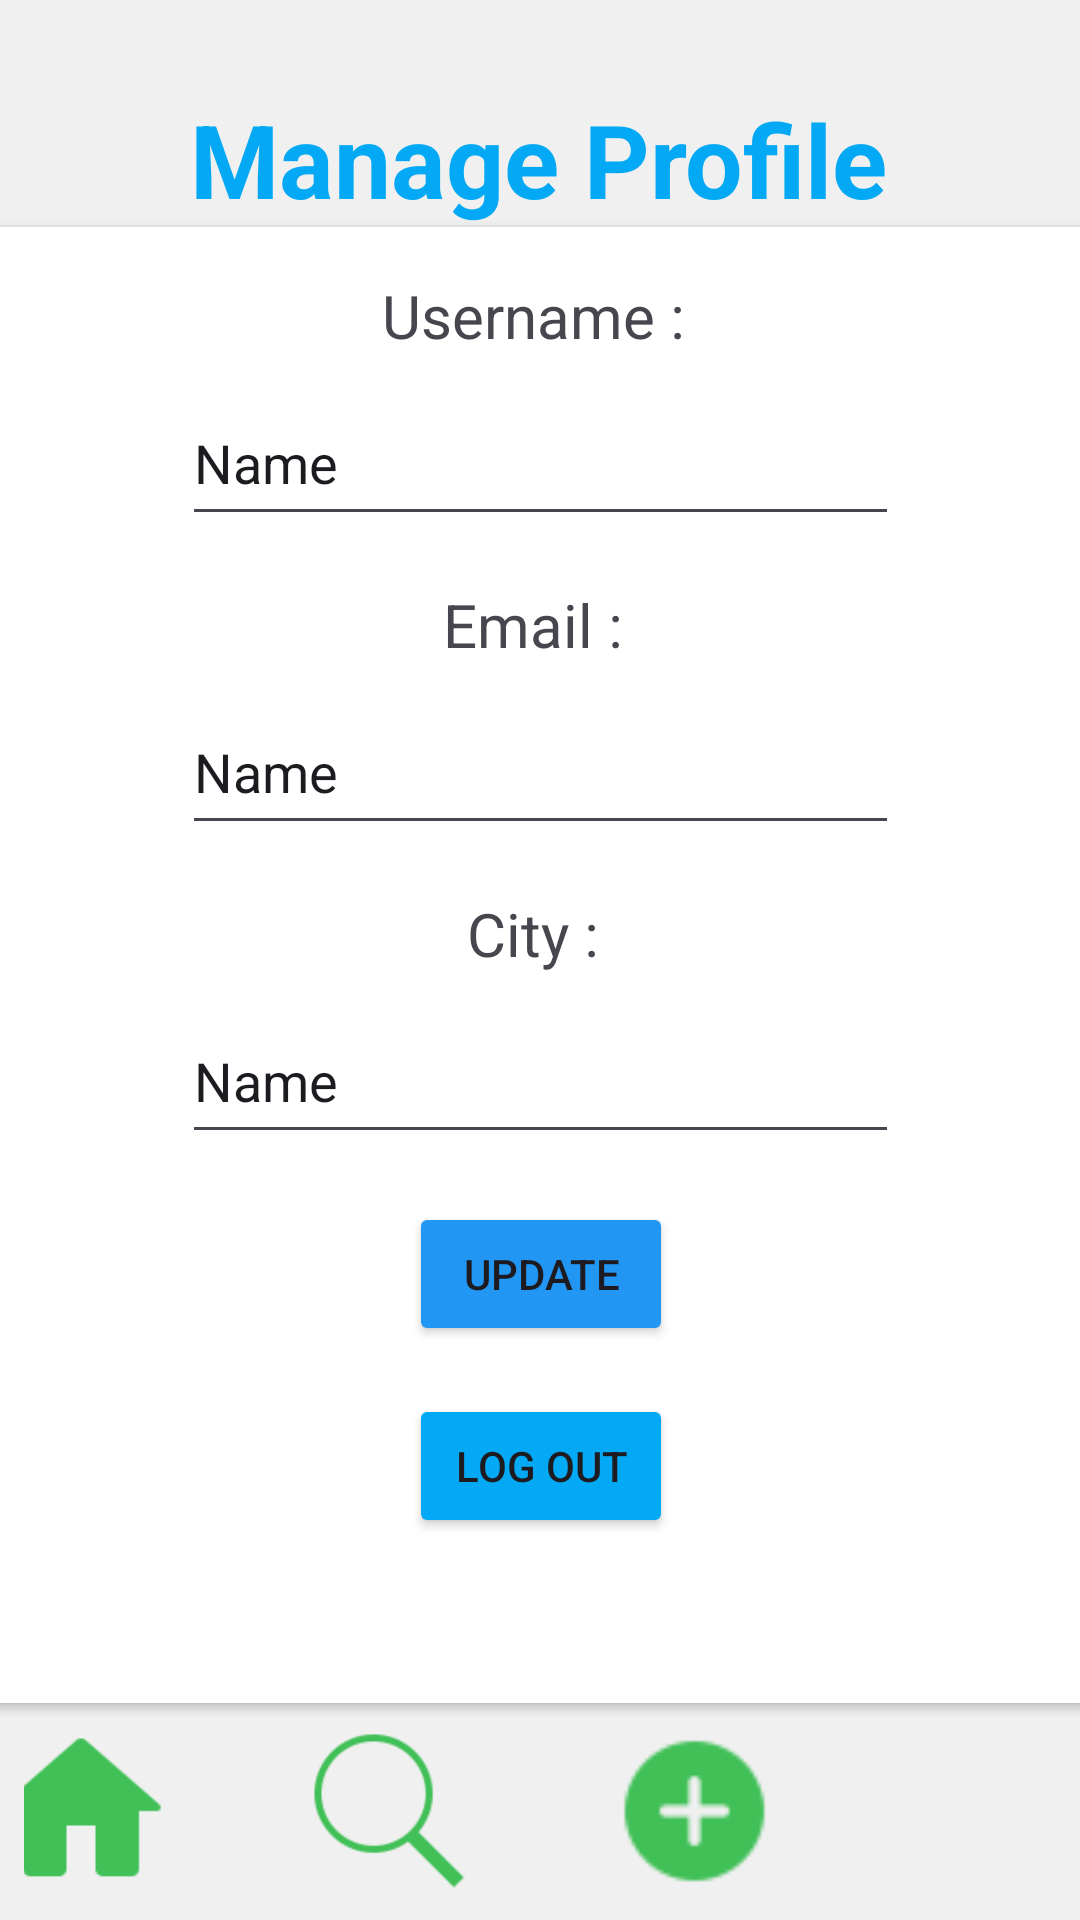

Locate icon controls on the screen. Image size 1080 x 1920, boxes as (x1, y1, x2, y2).
add: (624, 1740, 765, 1882)
search: (314, 1734, 464, 1888)
